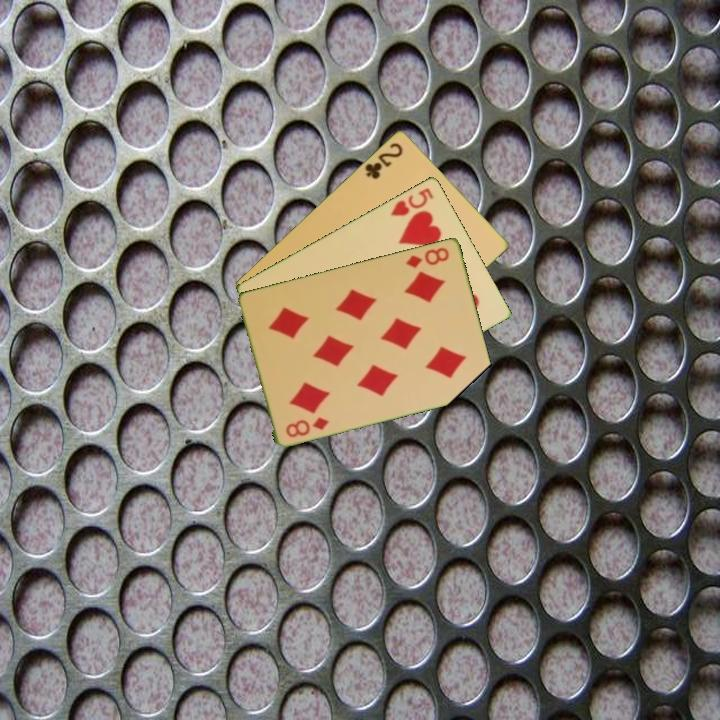2c: (361, 139, 406, 182)
5h: (387, 184, 437, 219)
8d: (402, 243, 452, 270), (282, 413, 332, 440)
